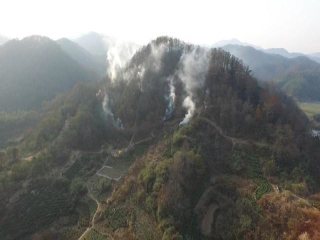smoke: (94, 31, 216, 128)
